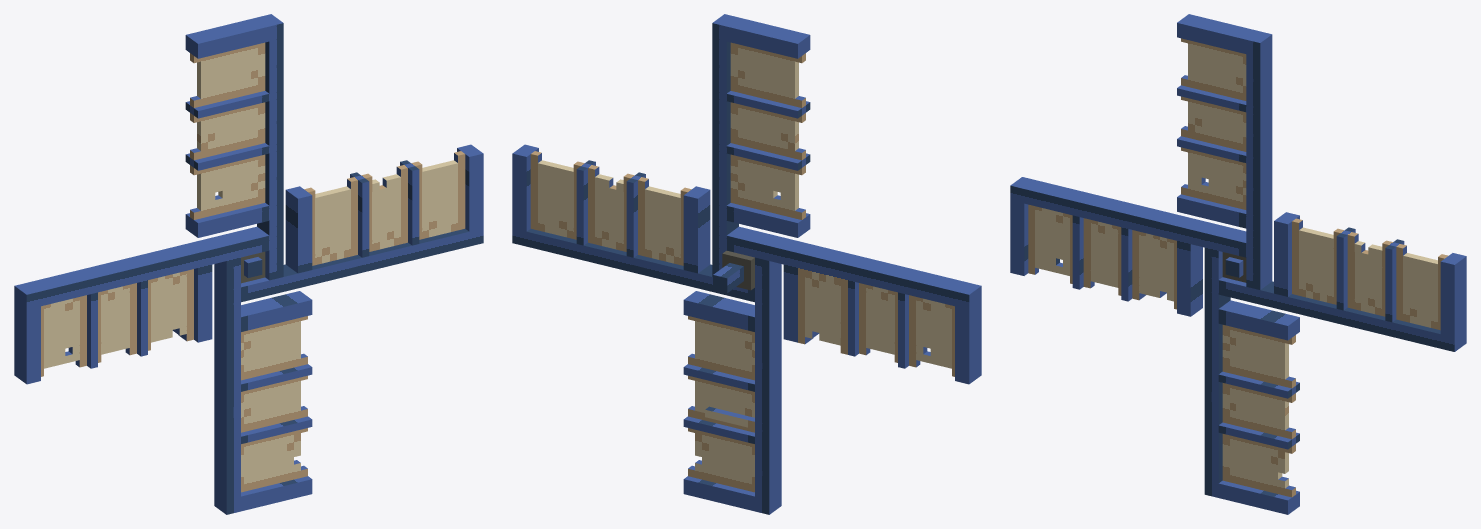
Rendered from windmill_bao.fezao.glb.
The picture shows the model from 3 angles, left to right: view 1: azimuth 30°, elevation 25°; view 2: azimuth 150°, elevation 25°; view 3: azimuth 330°, elevation 25°; orthographic projection. The views are drawn at different scales.
Visible parts, largest first — view 1: windmill_BAO; view 2: windmill_BAO; view 3: windmill_BAO.
Boxes of the visible parts, x1,y1,x2,y2 form: windmill_BAO: (14, 14, 483, 514); windmill_BAO: (512, 14, 981, 514); windmill_BAO: (1010, 14, 1466, 514).
Bounding box in the file's own units: 4 × 4 × 0.5.
1 material, 1 textured.
